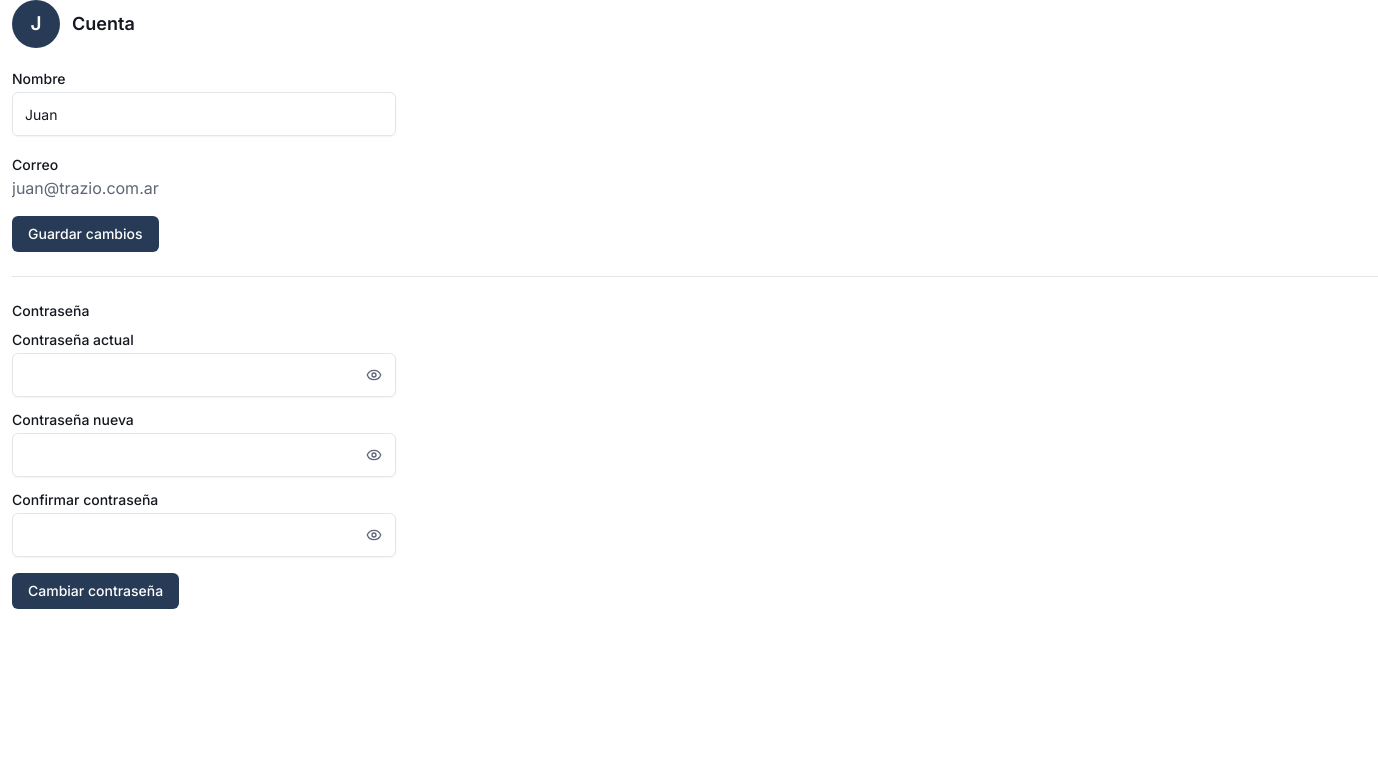
Test: AccountSection (bloque 9.4) › no deja guardar un nombre vacío
The width and height of the screenshot is (1378, 768).
Clear the field labelled "Nombre" at (204, 114), box [12, 92, 396, 136]
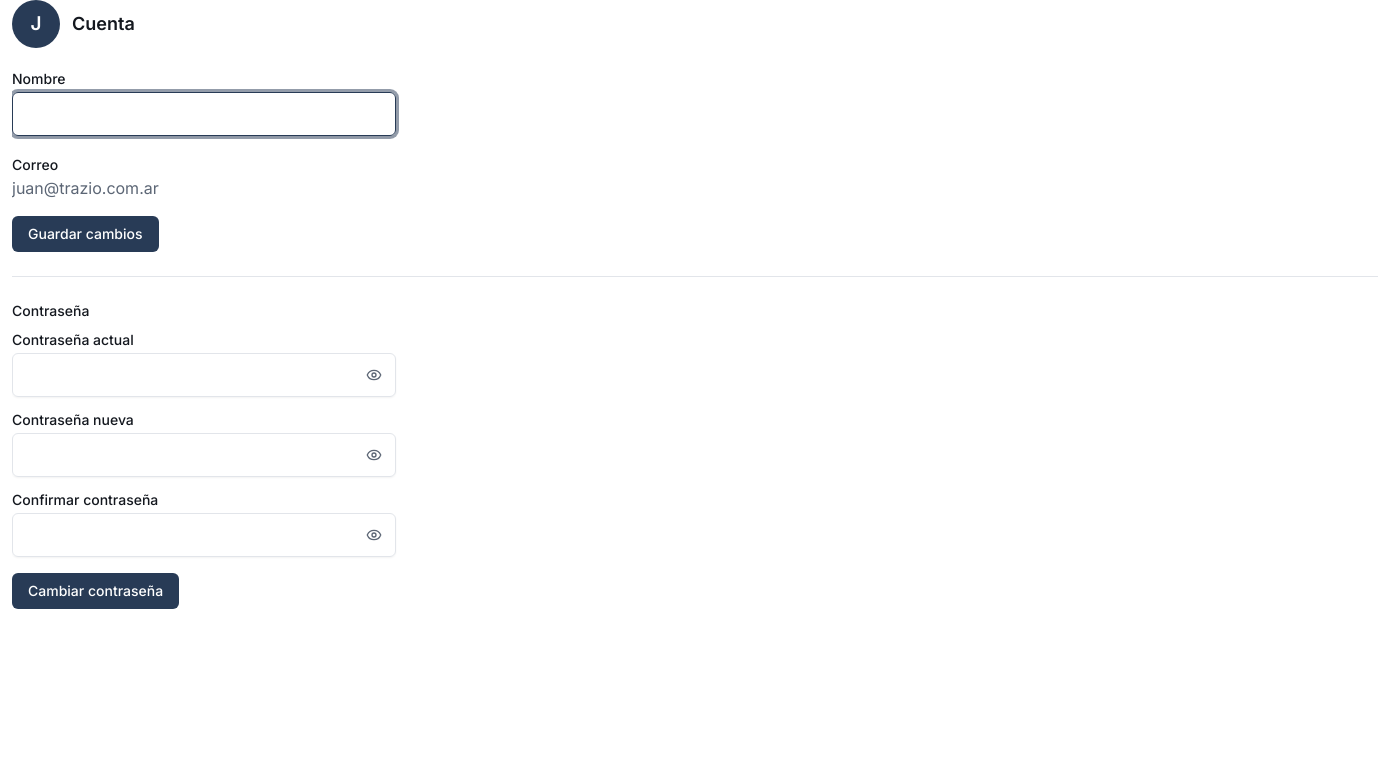
Click the button "Guardar cambios" at (85, 234), box [12, 216, 158, 252]
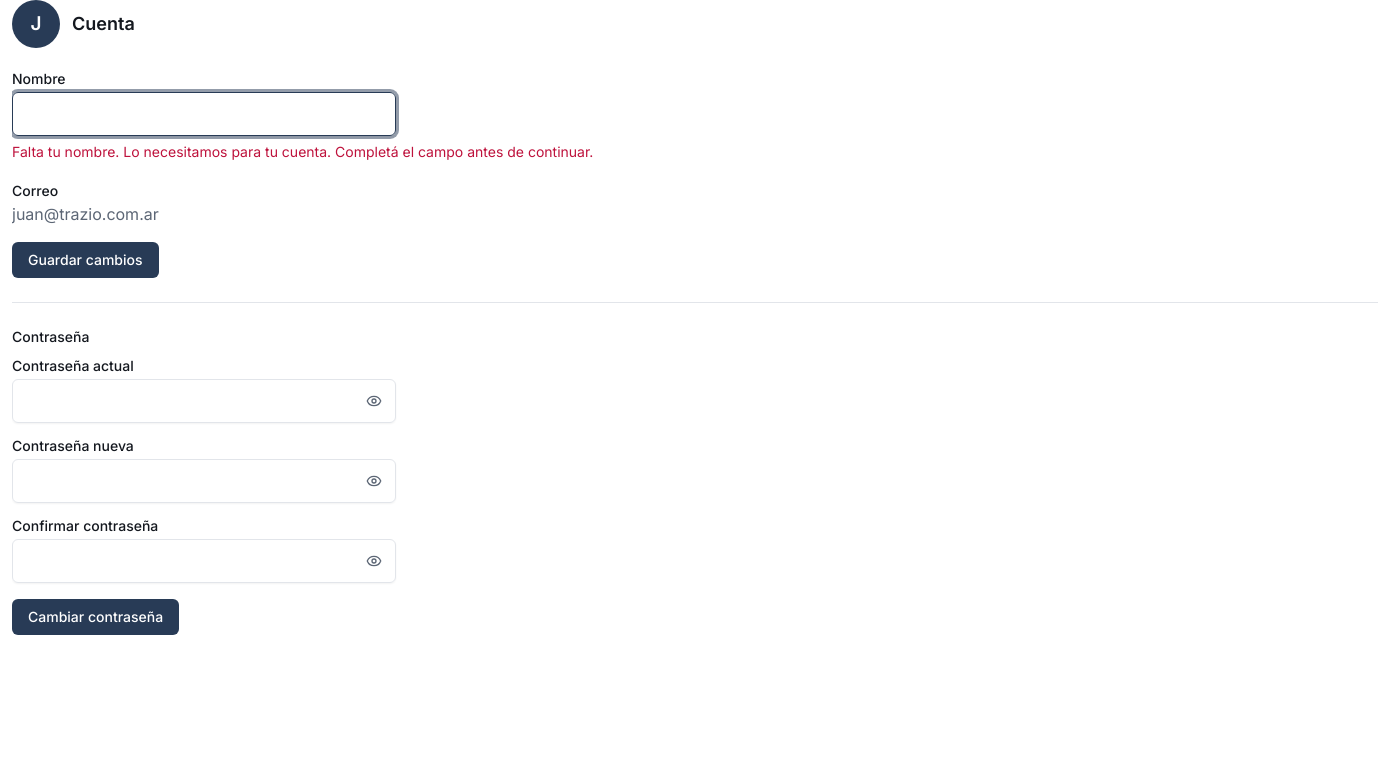
Expected: the text "Falta tu nombre" is shown, [12, 143, 593, 160]
